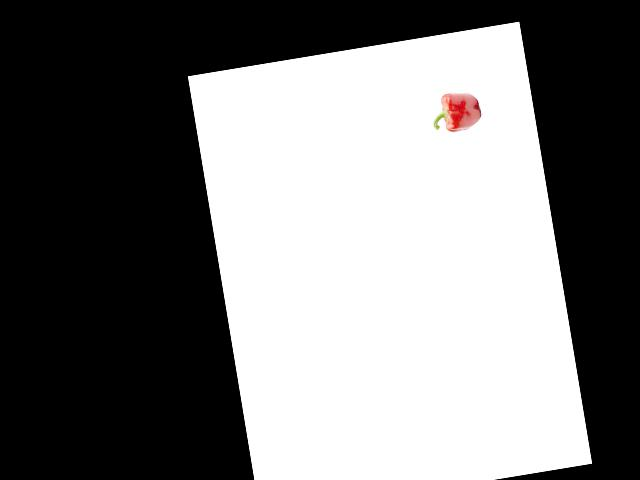bell_pepper: (427, 85, 485, 138)
